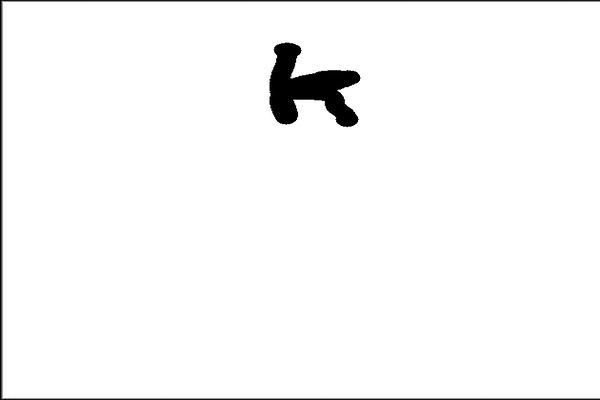K: (252, 35, 378, 141)
